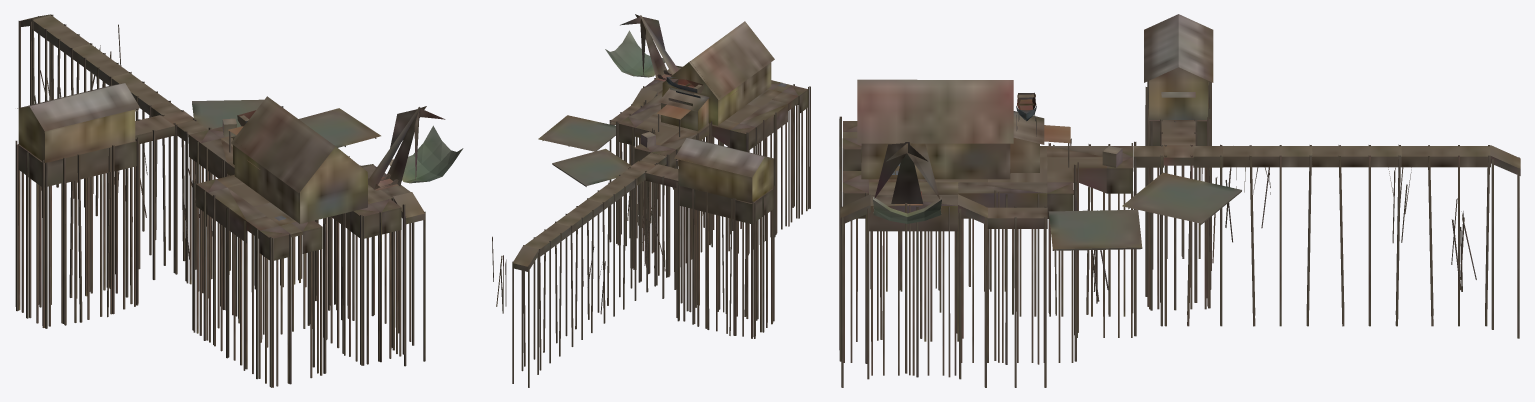
File: fishing_village_b-map.glb
3 views of the same model, side by side, from view 1: azimuth 30°, elevation 25°; view 2: azimuth 150°, elevation 25°; view 3: azimuth 270°, elevation 25° (orthographic). The views are drawn at different scales.
Parts seen in each view (by area): view 1: fishing_village_b_hlod; view 2: fishing_village_b_hlod; view 3: fishing_village_b_hlod.
Part boxes in pixels (box(x1,y1,x2,y2)): fishing_village_b_hlod: box(15, 14, 463, 387); fishing_village_b_hlod: box(492, 14, 810, 387); fishing_village_b_hlod: box(839, 14, 1520, 387).
Size of the model in its own units: 40.33 by 30.31 by 68.76.
Materials: 1 (1 with a texture image).
